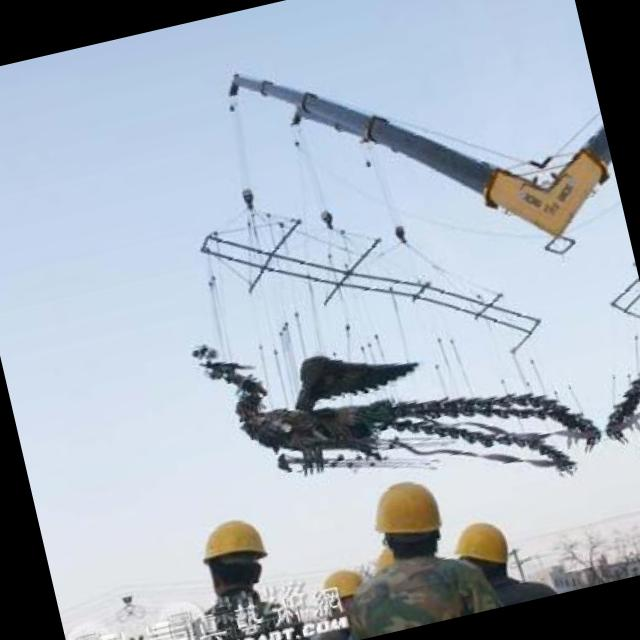helmet: (353, 461, 458, 576), (181, 500, 279, 608), (431, 504, 521, 598), (311, 556, 371, 620)
